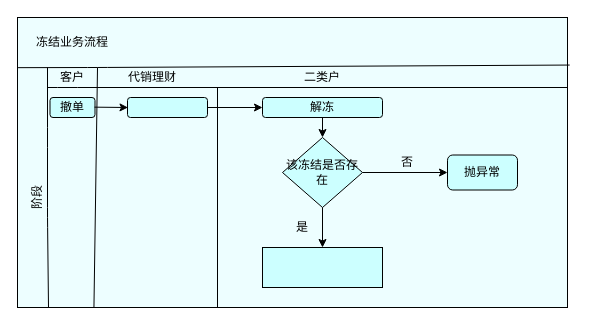
This 589x326 diagram has some shape labels left out. Each missing label, with the box of its shape:
业务逻辑处理: (126, 96, 208, 118)
冻结，并登记冻结流水，冻结流水登记薄: (262, 246, 382, 288)
